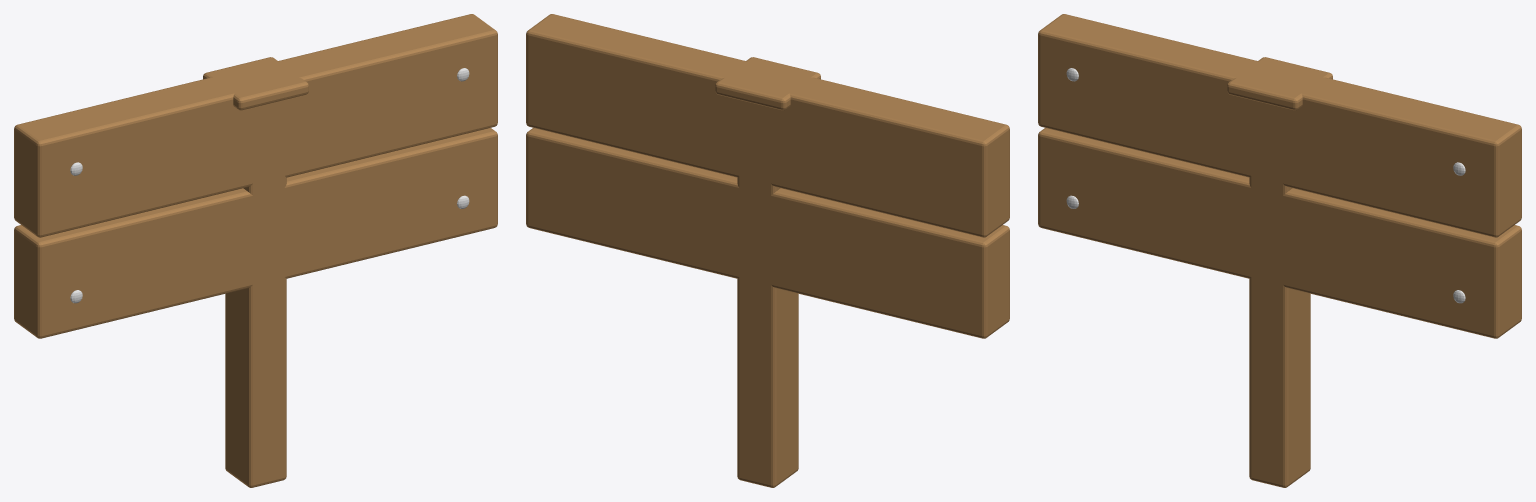
The model's file is signpost.glb.
3 renders of one model, left to right at view 1: azimuth 30°, elevation 25°; view 2: azimuth 150°, elevation 25°; view 3: azimuth 330°, elevation 25°, orthographic.
Visible parts, largest first — view 1: Upper sign plank, Lower sign plank, Solid cedar signpost, Flat post cap; view 2: Upper sign plank, Lower sign plank, Solid cedar signpost, Flat post cap; view 3: Upper sign plank, Lower sign plank, Solid cedar signpost, Flat post cap.
Part boxes in pixels (x1,y1,x2,y2): Upper sign plank: (14, 14, 497, 237); Lower sign plank: (14, 128, 497, 338); Solid cedar signpost: (225, 100, 286, 487); Flat post cap: (203, 57, 308, 110); Upper sign plank: (526, 14, 1009, 237); Lower sign plank: (526, 128, 1009, 338); Solid cedar signpost: (737, 100, 798, 487); Flat post cap: (715, 57, 820, 110); Upper sign plank: (1038, 14, 1521, 237); Lower sign plank: (1038, 128, 1521, 338); Solid cedar signpost: (1249, 100, 1310, 487); Flat post cap: (1227, 57, 1332, 110).
Bounding box in the file's own units: 1.55 × 1.28 × 0.22.
